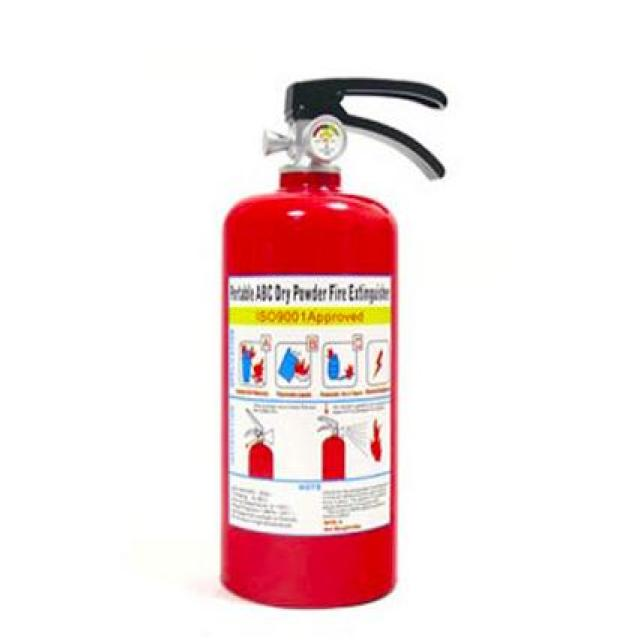fire_extinguisher: (209, 72, 452, 612)
